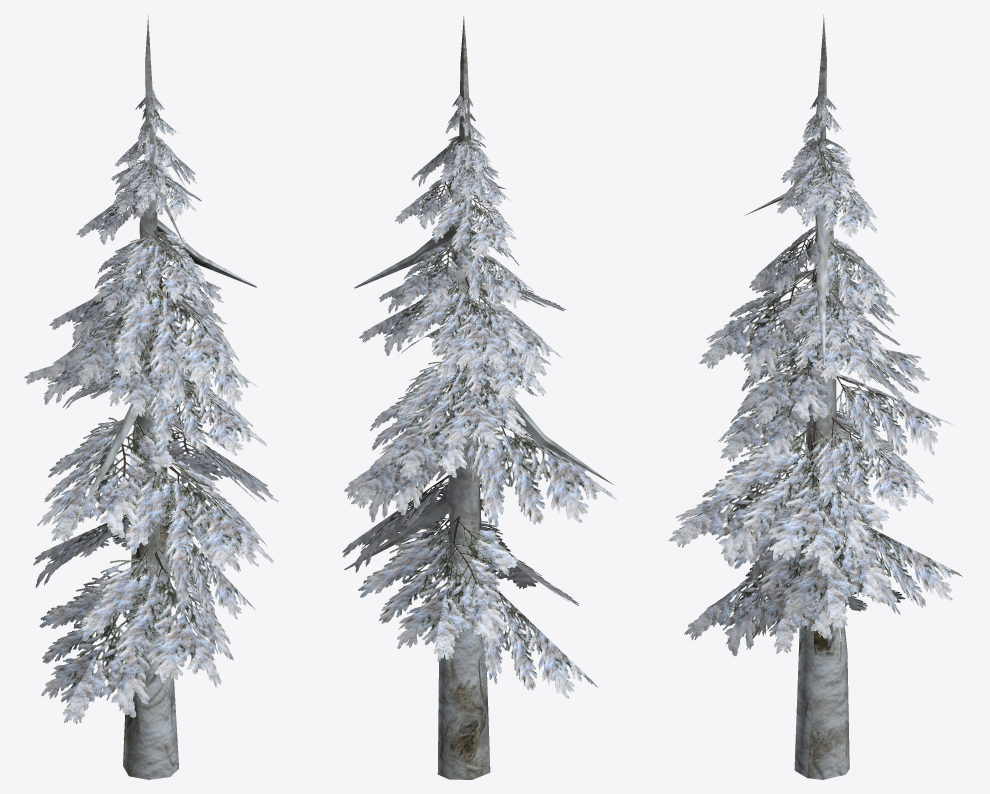
The model's file is SM_EN_2007_zhiwu01.FBX.
3 views of the same model, side by side, from view 1: azimuth 30°, elevation 25°; view 2: azimuth 150°, elevation 25°; view 3: azimuth 270°, elevation 25° (orthographic).
Visible parts, largest first — view 1: SM_EN_2007_zhiwu0101, SM_EN_2007_zhiwu0102, SM_EN_2007_zhiwu0103; view 2: SM_EN_2007_zhiwu0101, SM_EN_2007_zhiwu0102, SM_EN_2007_zhiwu0103; view 3: SM_EN_2007_zhiwu0101, SM_EN_2007_zhiwu0102, SM_EN_2007_zhiwu0103.
Boxes of the visible parts, <box> form: SM_EN_2007_zhiwu0101: <box>24,90,278,723</box>; SM_EN_2007_zhiwu0102: <box>46,14,256,779</box>; SM_EN_2007_zhiwu0103: <box>24,97,277,724</box>; SM_EN_2007_zhiwu0101: <box>342,94,616,698</box>; SM_EN_2007_zhiwu0102: <box>344,16,614,779</box>; SM_EN_2007_zhiwu0103: <box>342,94,615,698</box>; SM_EN_2007_zhiwu0101: <box>669,92,962,655</box>; SM_EN_2007_zhiwu0102: <box>744,15,859,779</box>; SM_EN_2007_zhiwu0103: <box>669,92,962,656</box>.
Bounding box in the file's own units: 357 × 997 × 392.
